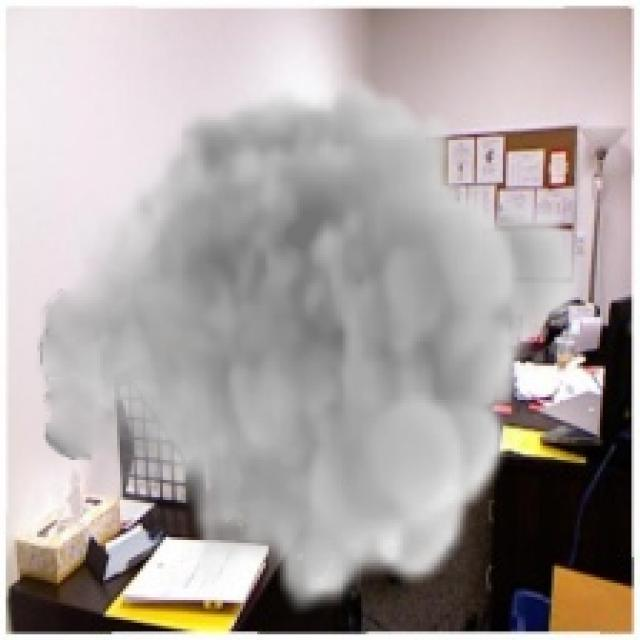Smoke: (34, 75, 589, 614)
